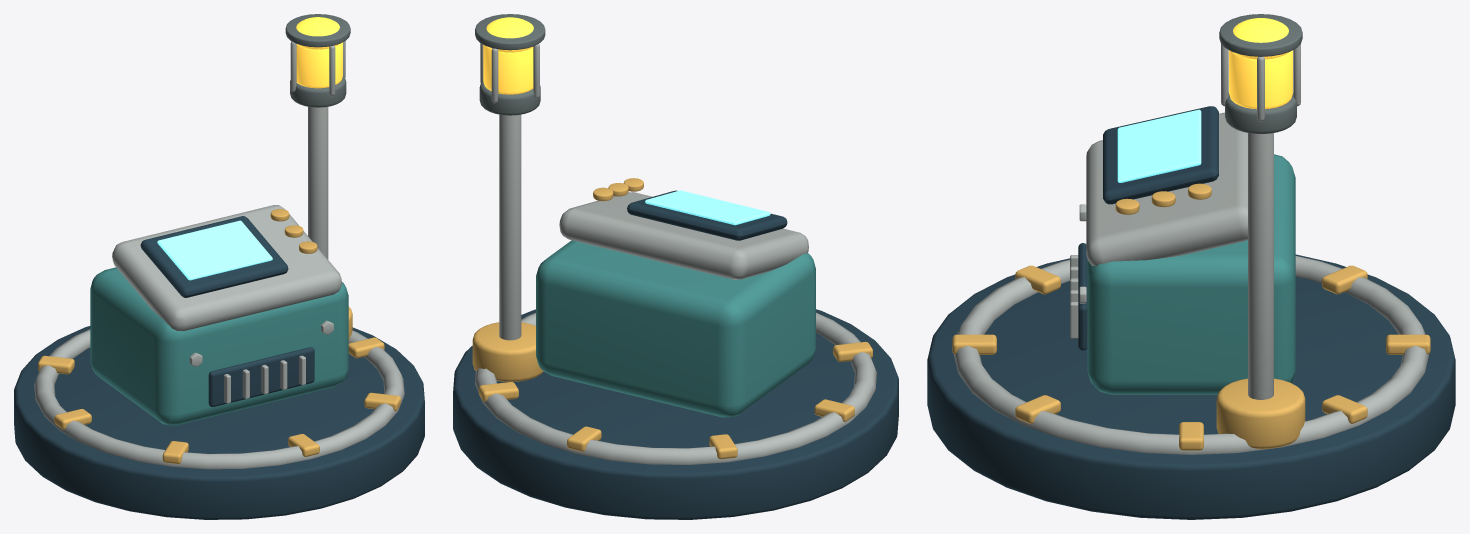
File: discovery-salvage.glb
3 renders of one model, left to right at view 1: azimuth 30°, elevation 25°; view 2: azimuth 150°, elevation 25°; view 3: azimuth 270°, elevation 25°, orthographic. The views are drawn at different scales.
Visible parts, largest first — view 1: Salvage_Midnight blue, Salvage_Brushed steel, Salvage_Station teal enamel, Salvage_Electric ceramic, Salvage_Brass details, Salvage_Amber beacon, Salvage_Gunmetal; view 2: Salvage_Midnight blue, Salvage_Station teal enamel, Salvage_Brushed steel, Salvage_Brass details, Salvage_Amber beacon, Salvage_Gunmetal, Salvage_Electric ceramic; view 3: Salvage_Midnight blue, Salvage_Brushed steel, Salvage_Station teal enamel, Salvage_Brass details, Salvage_Electric ceramic, Salvage_Amber beacon, Salvage_Gunmetal.
Boxes of the visible parts, bbox=[...] form: Salvage_Midnight blue: bbox=[14, 216, 424, 519]; Salvage_Brushed steel: bbox=[34, 41, 404, 469]; Salvage_Station teal enamel: bbox=[90, 267, 348, 425]; Salvage_Electric ceramic: bbox=[157, 220, 272, 280]; Salvage_Brass details: bbox=[38, 209, 400, 463]; Salvage_Amber beacon: bbox=[296, 17, 342, 88]; Salvage_Gunmetal: bbox=[285, 14, 350, 107]; Salvage_Midnight blue: bbox=[453, 190, 898, 519]; Salvage_Station teal enamel: bbox=[536, 240, 815, 417]; Salvage_Brushed steel: bbox=[475, 43, 876, 464]; Salvage_Brass details: bbox=[472, 178, 872, 459]; Salvage_Amber beacon: bbox=[483, 17, 533, 94]; Salvage_Gunmetal: bbox=[475, 14, 545, 115]; Salvage_Electric ceramic: bbox=[645, 190, 770, 225]; Salvage_Midnight blue: bbox=[927, 106, 1455, 519]; Salvage_Brushed steel: bbox=[953, 44, 1429, 454]; Salvage_Station teal enamel: bbox=[1087, 154, 1295, 394]; Salvage_Brass details: bbox=[952, 183, 1430, 450]; Salvage_Electric ceramic: bbox=[1117, 109, 1201, 182]; Salvage_Amber beacon: bbox=[1229, 18, 1292, 109]; Salvage_Gunmetal: bbox=[1219, 14, 1302, 133].
Size of the model in its own units: 1.9 by 1.85 by 1.9.
